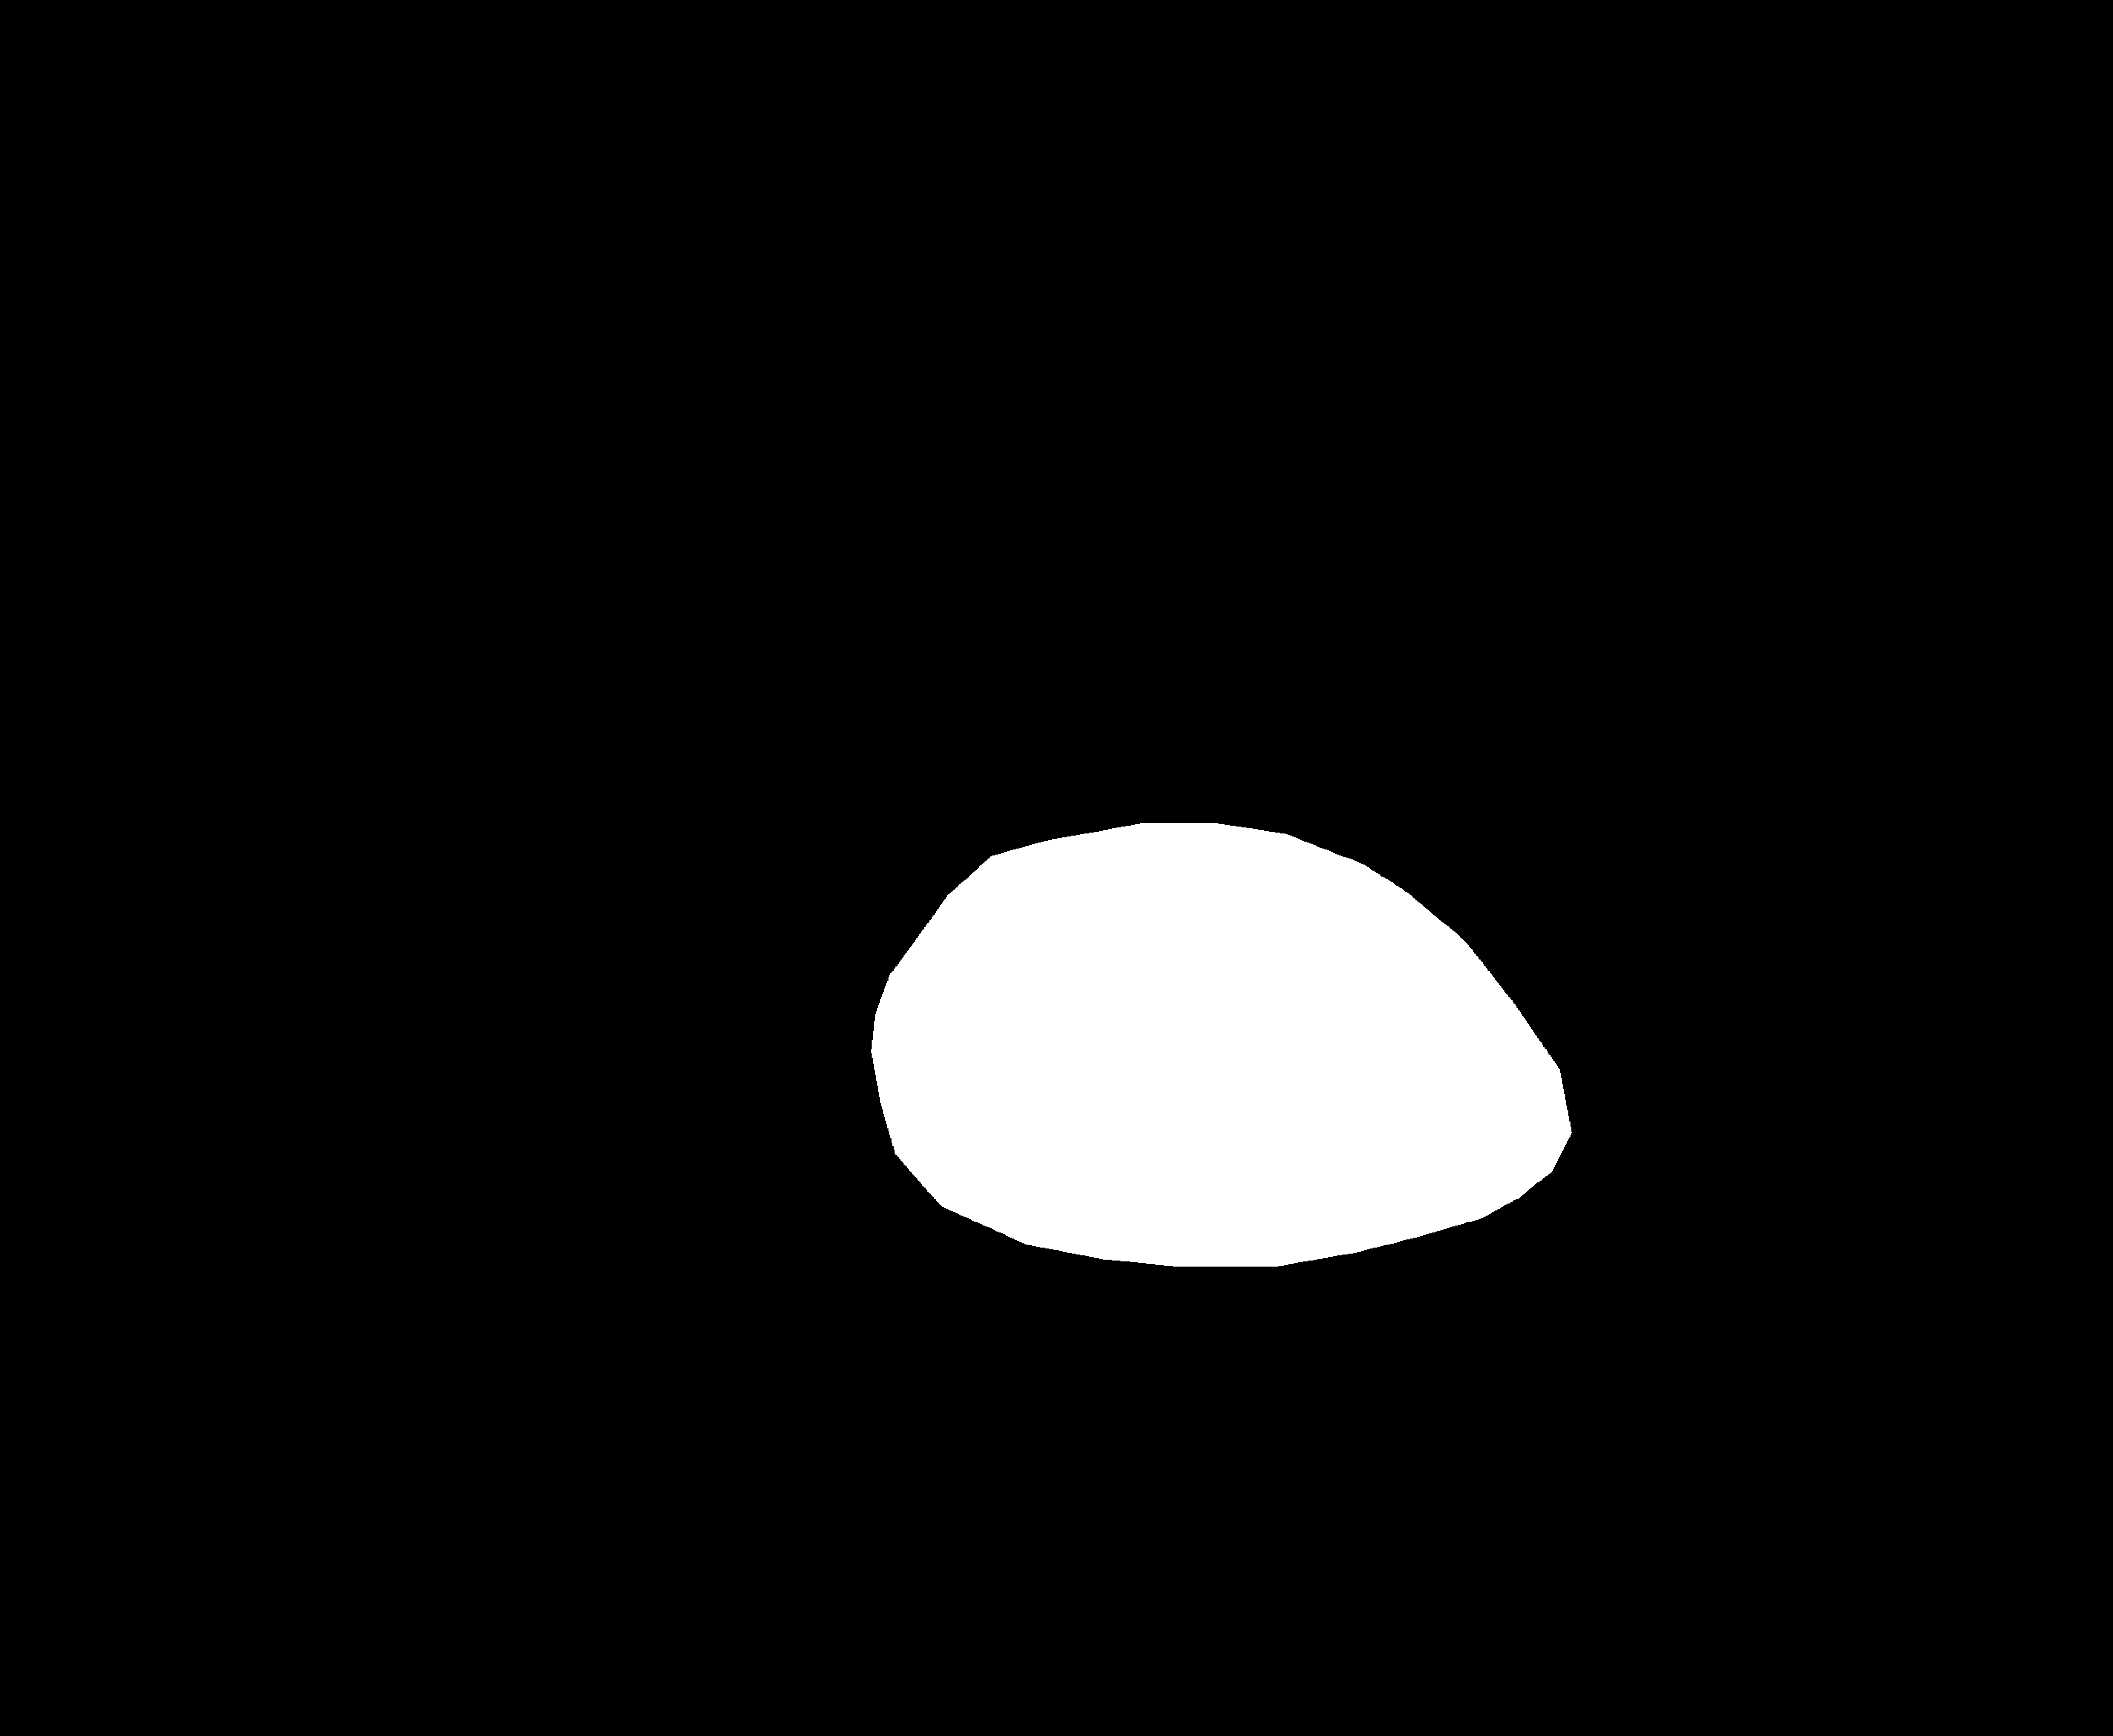heart: (874, 760, 1574, 1234)
left_lung: (377, 212, 1042, 1229)
right_lung: (1150, 195, 1885, 1243)
